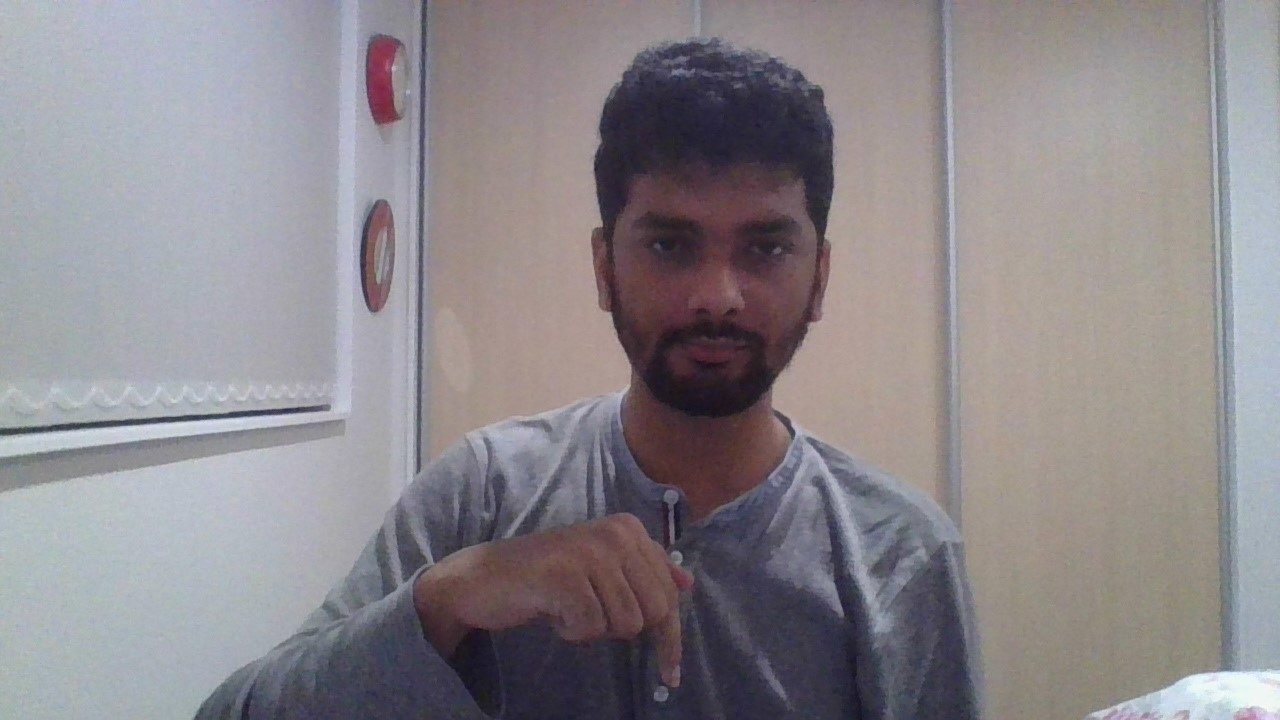below: (418, 512, 694, 690)
